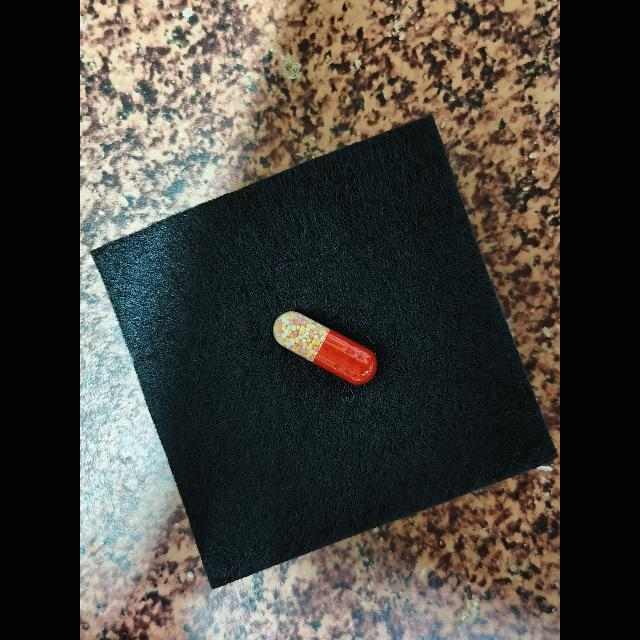Intact Capsule: (273, 311, 377, 385)
